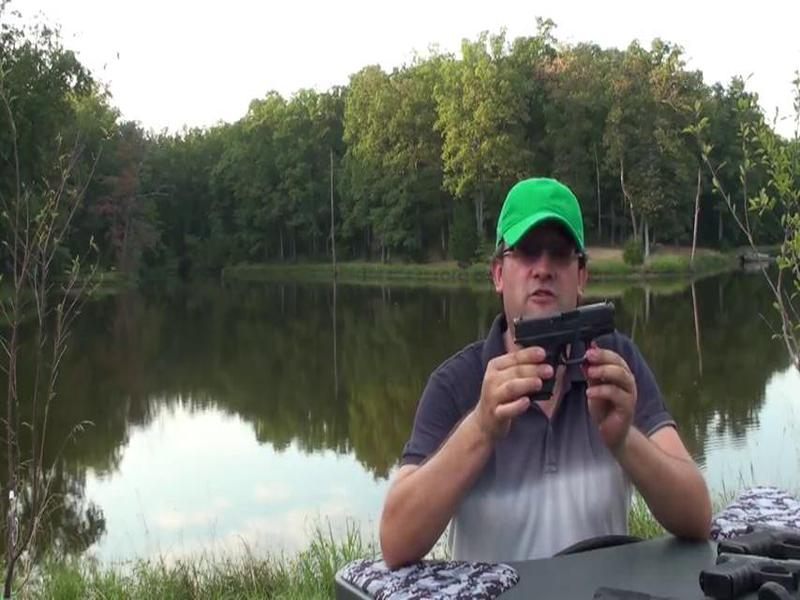Pistola: (505, 294, 629, 413)
